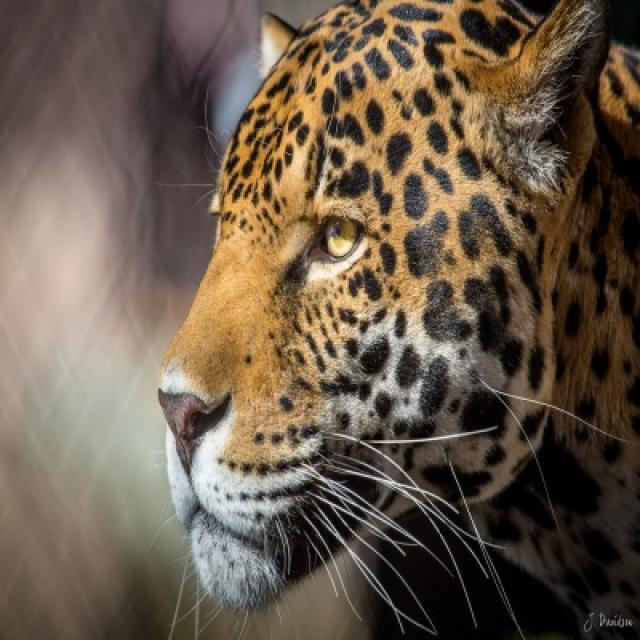Jaguar: (157, 0, 638, 638)
